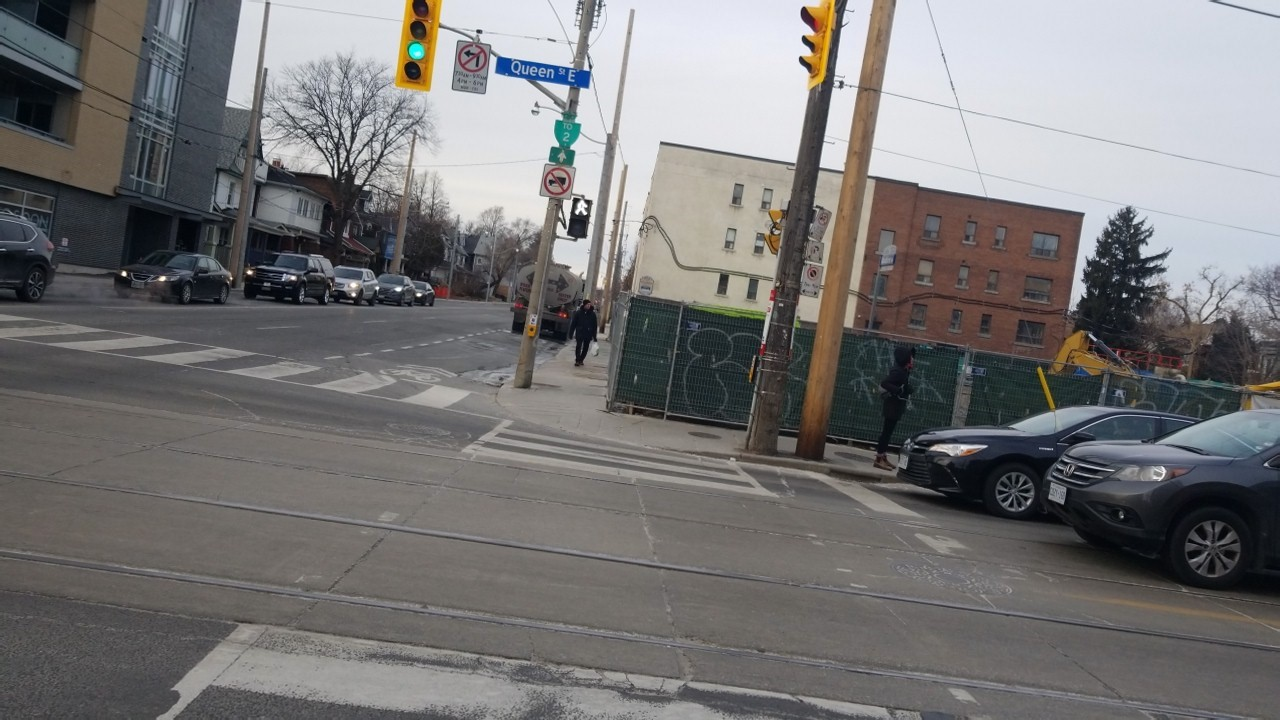light: (564, 193, 595, 241)
